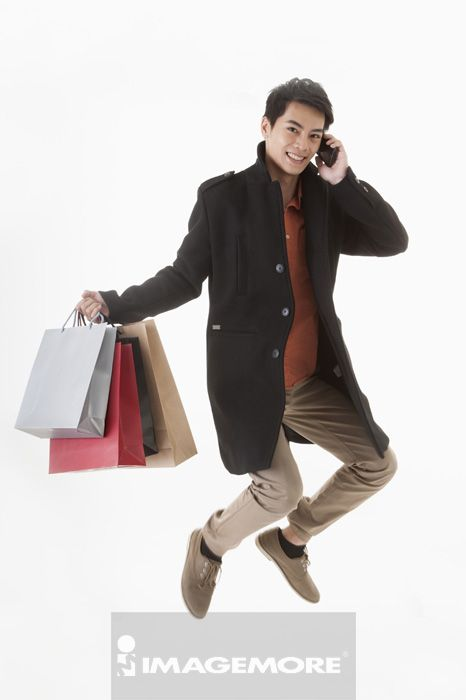talk: (276, 117, 345, 179)
